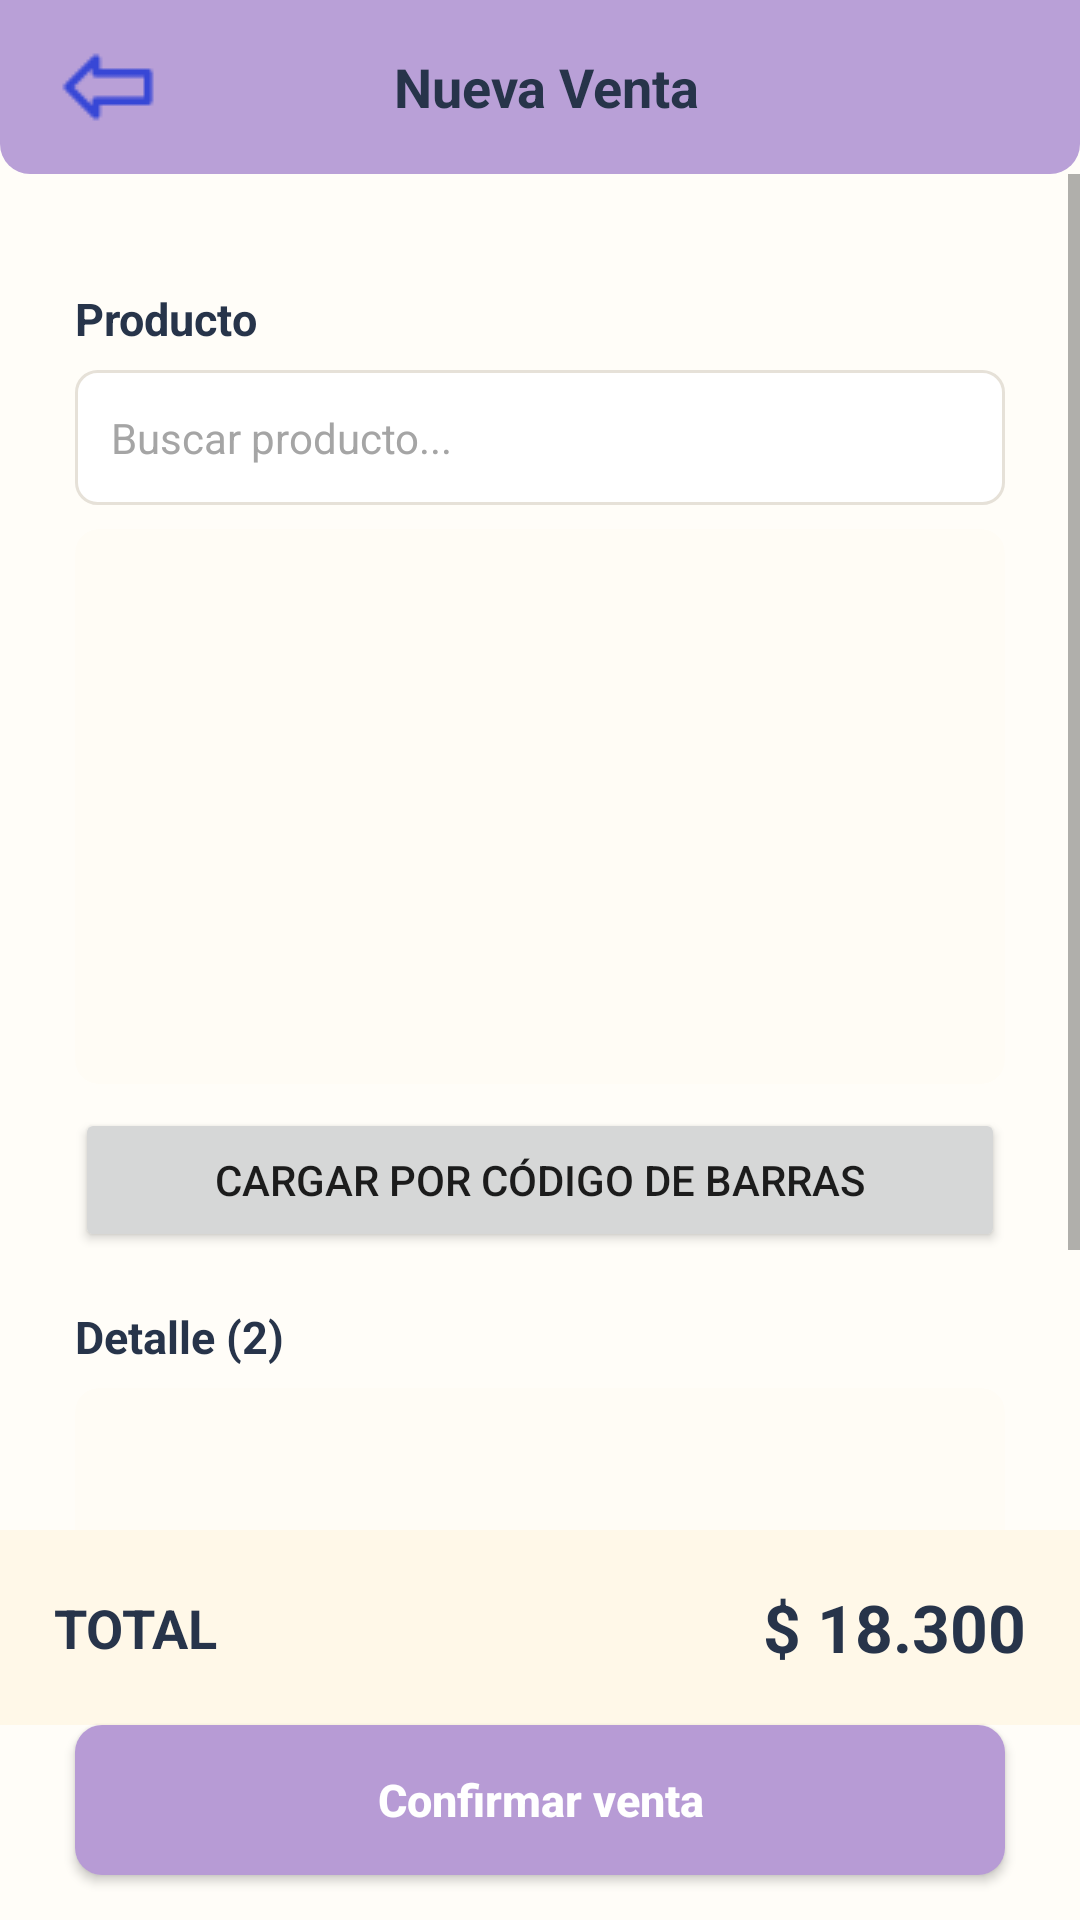

Icons on this 1080w x 1920h Android screen, each with the point to tap as [x,y]:
Volver: [108,87]
